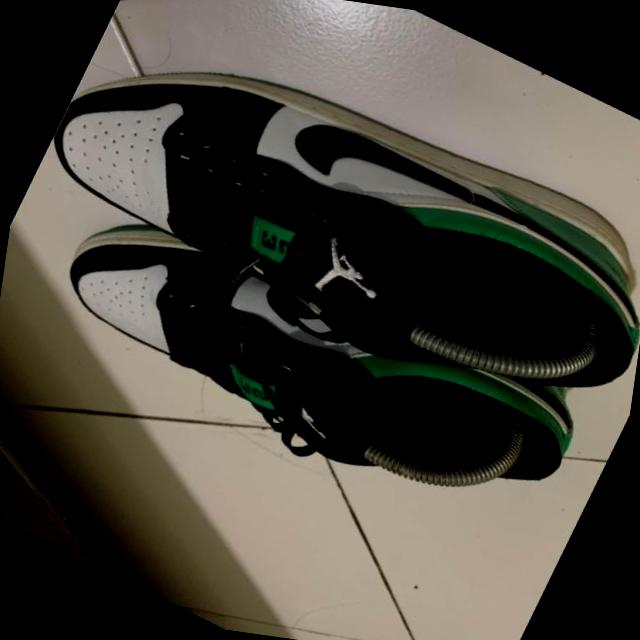nike_fake_jordan: (2, 0, 640, 466), (18, 157, 616, 561)
